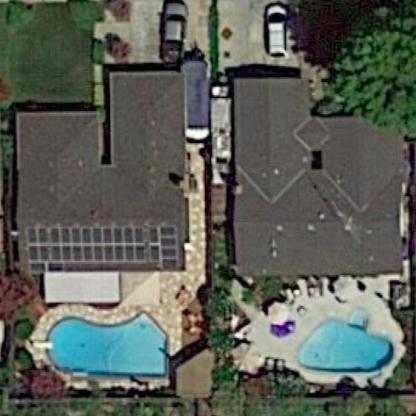car: (158, 1, 190, 67), (263, 1, 292, 60)
solar_panel: (23, 220, 186, 286)
swimming_pool: (33, 304, 186, 391), (294, 301, 400, 386)
